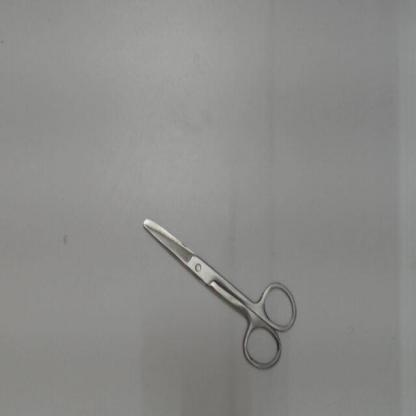Dressing Scissors: (129, 202, 304, 379)
